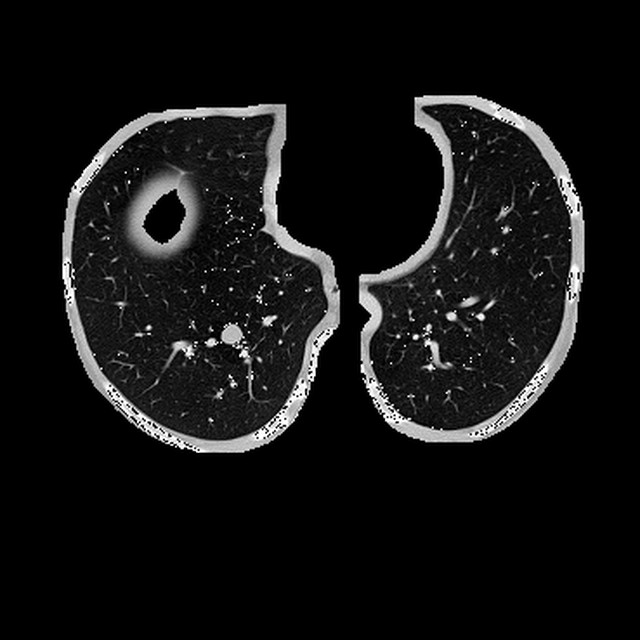PN: (220, 324, 241, 345)
